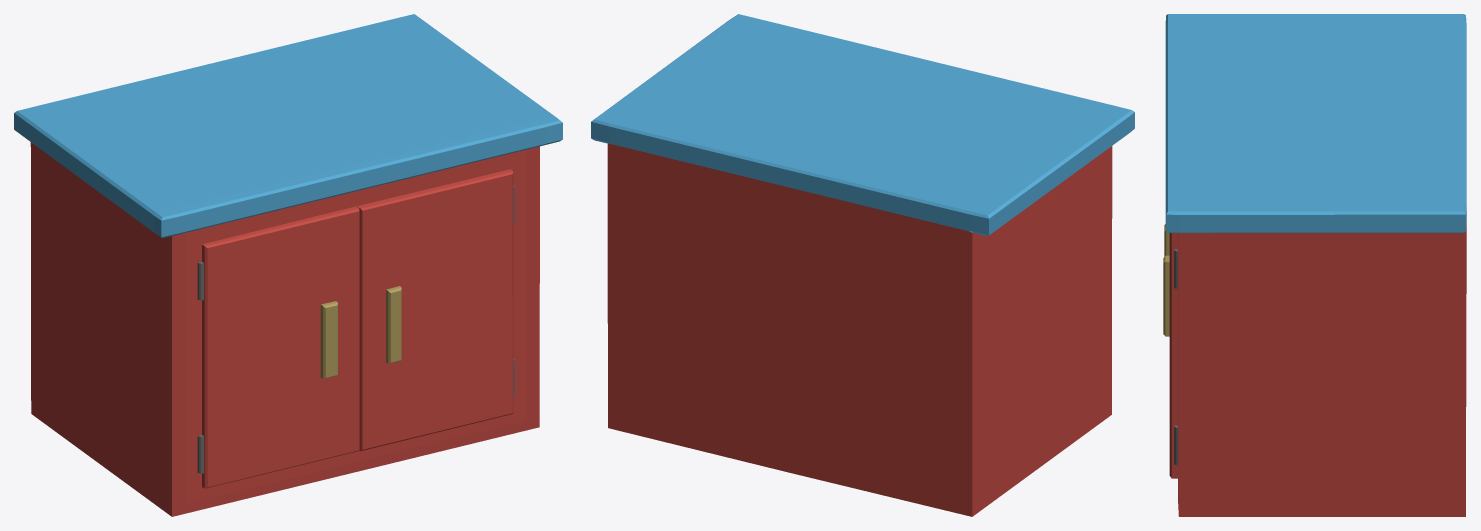
The model's file is LudumDareCabinetClosed 1.fbx.
The picture shows the model from 3 angles, left to right: view 1: azimuth 30°, elevation 25°; view 2: azimuth 150°, elevation 25°; view 3: azimuth 270°, elevation 25°; orthographic projection. The views are drawn at different scales.
Visible parts, largest first — view 1: Doors, Cabinet Top, Cabinet Closed, Handles, Hinges; view 2: Cabinet Closed, Cabinet Top; view 3: Cabinet Closed, Cabinet Top, Doors, Handles.
Boxes of the visible parts, x1=… form: Doors: x1=202, y1=169, x2=513, y2=488; Cabinet Top: x1=14, y1=14, x2=562, y2=238; Cabinet Closed: x1=30, y1=142, x2=539, y2=516; Handles: x1=320, y1=286, x2=401, y2=378; Hinges: x1=197, y1=185, x2=514, y2=473; Cabinet Closed: x1=607, y1=143, x2=1112, y2=516; Cabinet Top: x1=591, y1=14, x2=1134, y2=236; Cabinet Closed: x1=1178, y1=225, x2=1466, y2=516; Cabinet Top: x1=1165, y1=14, x2=1466, y2=232; Doors: x1=1169, y1=233, x2=1177, y2=478; Handles: x1=1163, y1=224, x2=1169, y2=336.
Bounding box in the file's own units: 116 × 84.54 × 74.21.
